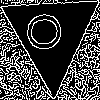O: (26, 10, 69, 52)
